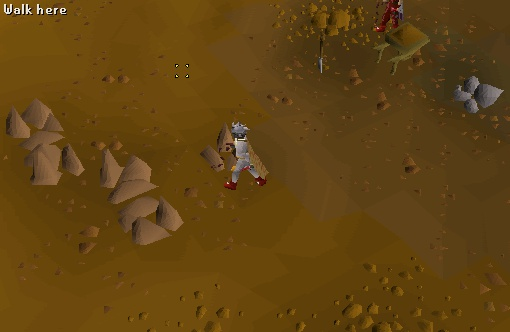copper: (90, 138, 165, 208), (17, 134, 85, 200), (118, 189, 184, 248)
